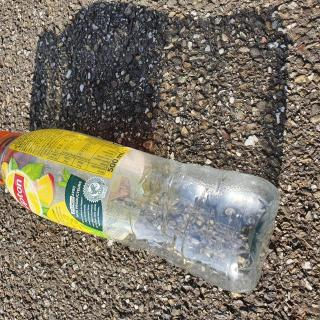Plastic-bottle: (1, 125, 284, 300)
